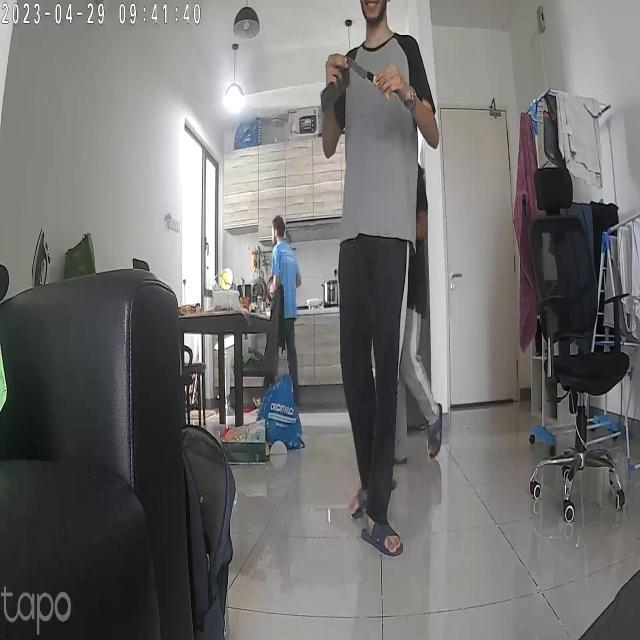Knife: (342, 50, 393, 103)
